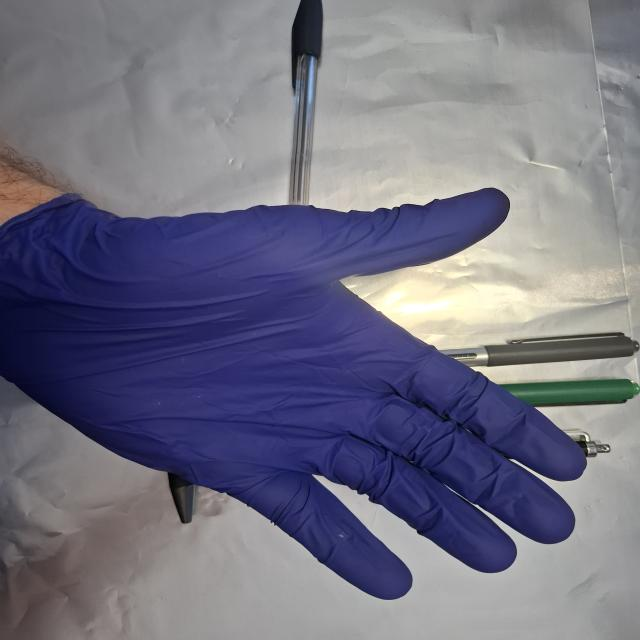glove_on: (6, 185, 594, 603)
